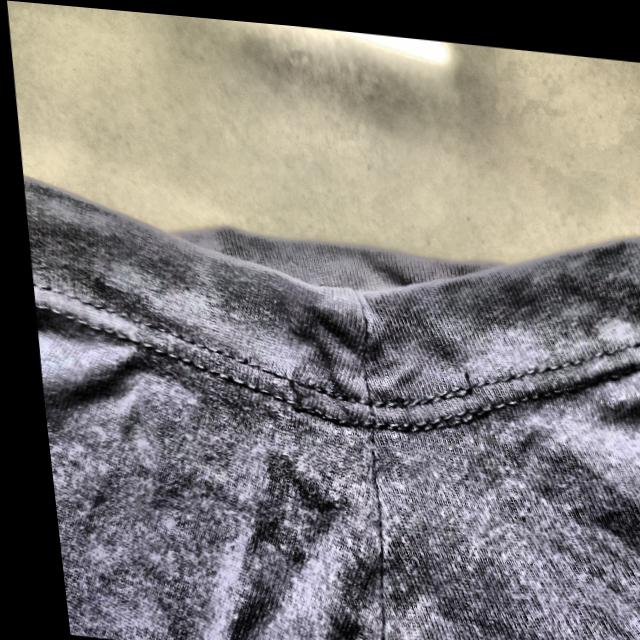Stitch: (392, 344, 492, 407)
